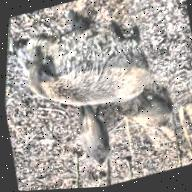boar: (3, 0, 192, 138), (52, 105, 134, 189), (118, 63, 192, 145)
